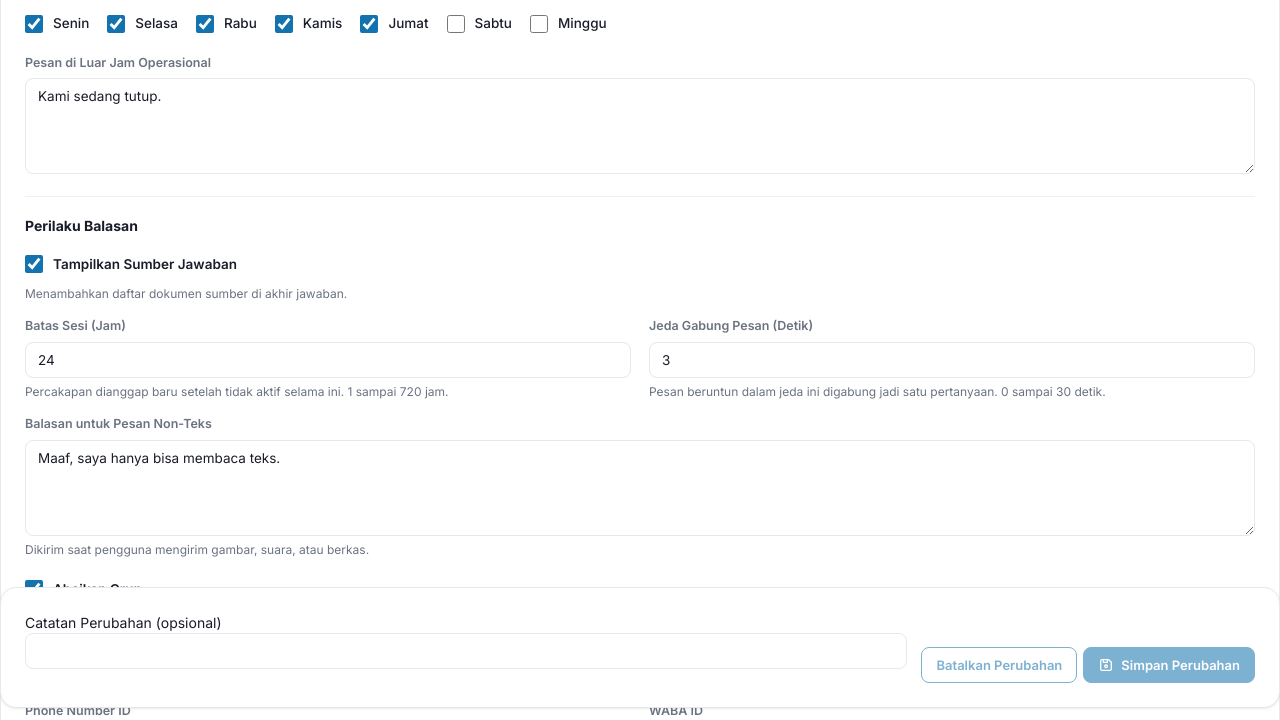
Halaman Channel: pengaturan › nilai di luar batas menahan simpan dan menampilkan galat
(page scrolled)
Replace the text in the number field labelled "Batas Sesi (Jam)" with "1000". click: (328, 360)
box: 25,342 -> 631,378
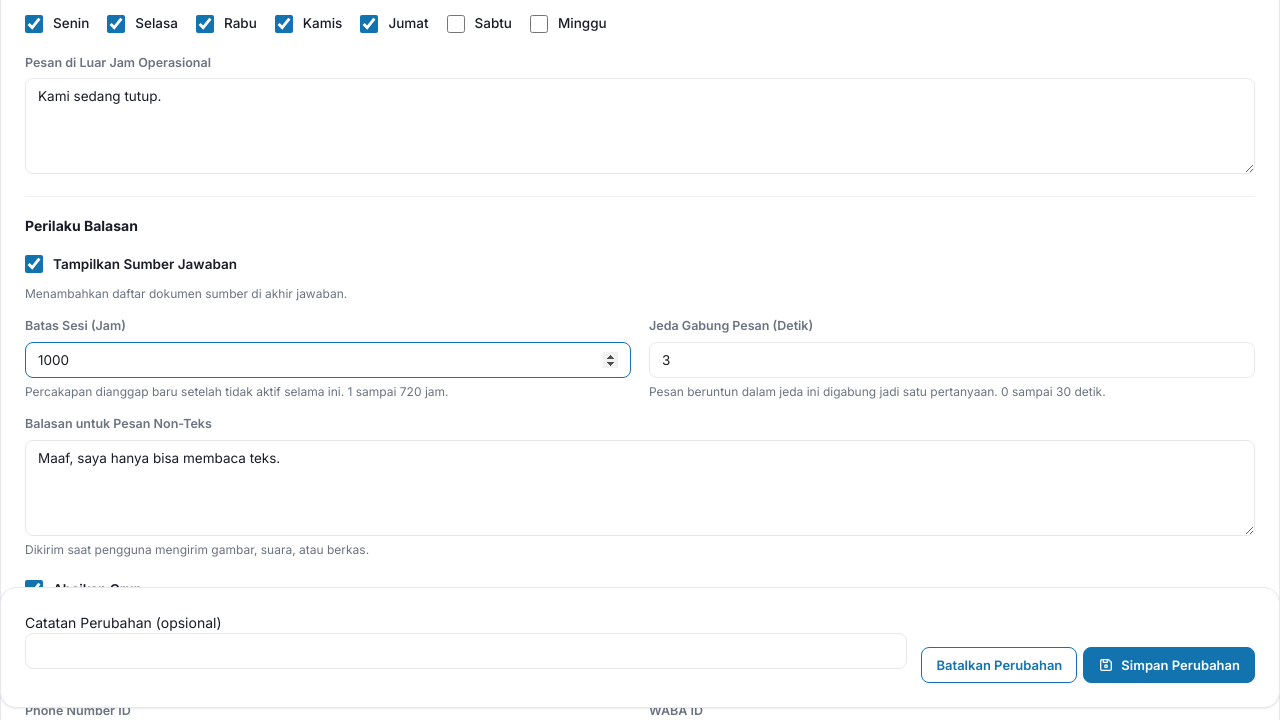
Click the button "Simpan Perubahan". click: (1169, 665)
box: 1083,647 -> 1255,683
(page scrolled)
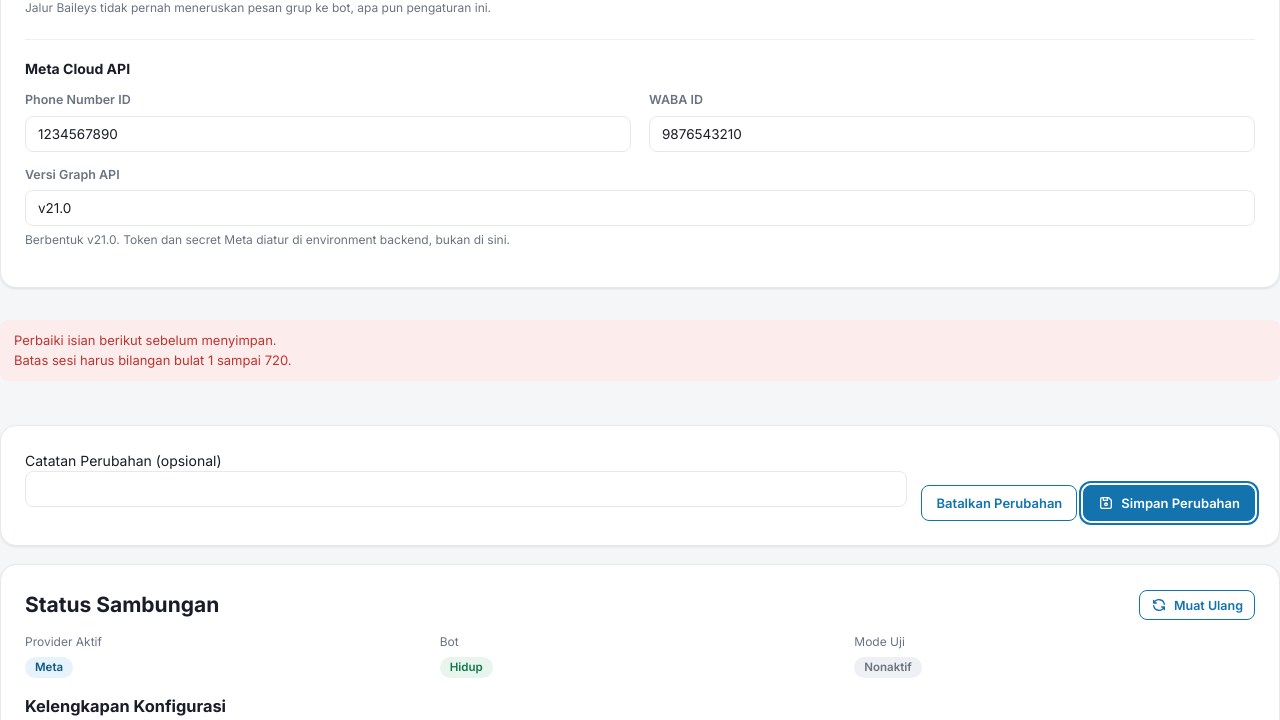
Expected: the list item "Batas sesi harus bilangan bulat 1 sampai 720." is shown, 14,351 -> 292,370
